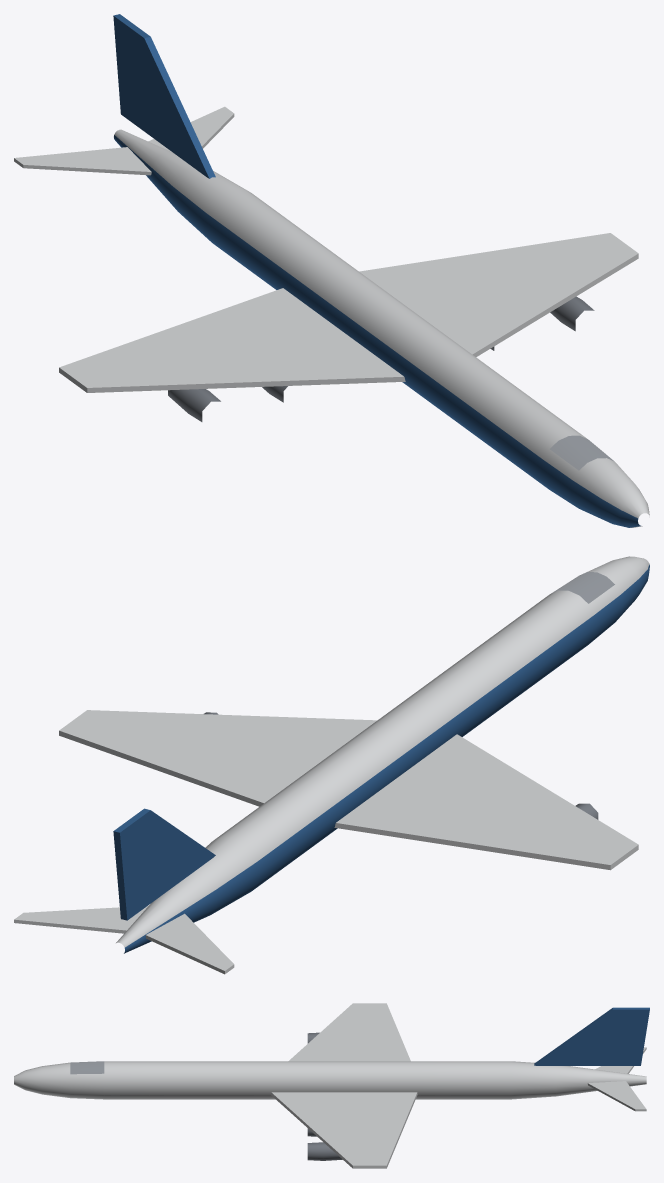
The model's file is mobile.glb.
3 renders of one model, top to bottom at view 1: azimuth 30°, elevation 25°; view 2: azimuth 150°, elevation 25°; view 3: azimuth 270°, elevation 25°, orthographic. The views are drawn at different scales.
Visible parts, largest first — view 1: transit.airliner; view 2: transit.airliner; view 3: transit.airliner.
Part boxes in pixels (left/top/right/bottom): transit.airliner: left=14, top=14, right=649, bottom=527; transit.airliner: left=14, top=556, right=649, bottom=974; transit.airliner: left=14, top=1003, right=649, bottom=1168.
Bounding box in the file's own units: 34 × 9.43 × 56.3.
